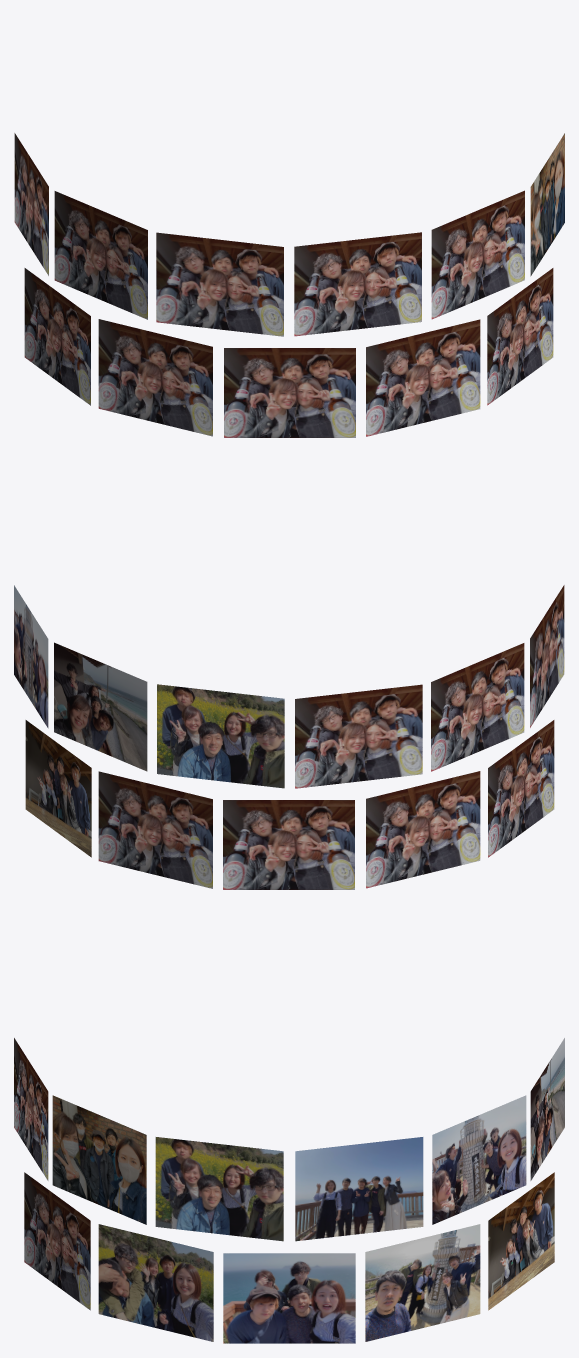
3 renders of one model, top to bottom at view 1: azimuth 30°, elevation 25°; view 2: azimuth 150°, elevation 25°; view 3: azimuth 270°, elevation 25°, orthographic.
Parts seen in each view (by area): view 1: 平面15, 平面14, 平面16, 平面13, 平面17, 平面12, 平面18, 平面19, 平面11, 平面10, 平面20; view 2: 平面23, 平面24, 平面22, 平面01, 平面21, 平面02, 平面20, 平面19, 平面03, 平面04, 平面18; view 3: 平面07, 平面08, 平面06, 平面09, 平面05, 平面04, 平面10, 平面11, 平面03, 平面02, 平面12.
Boxes of the visible parts, left/top/right/bottom form: 平面15: left=224, top=348, right=355, bottom=437; 平面14: left=294, top=232, right=421, bottom=336; 平面16: left=156, top=232, right=283, bottom=336; 平面13: left=366, top=319, right=480, bottom=436; 平面17: left=98, top=319, right=212, bottom=436; 平面12: left=431, top=190, right=524, bottom=319; 平面18: left=54, top=191, right=147, bottom=319; 平面19: left=24, top=268, right=90, bottom=405; 平面11: left=487, top=268, right=553, bottom=405; 平面10: left=530, top=133, right=564, bottom=276; 平面20: left=14, top=133, right=48, bottom=275; 平面23: left=223, top=800, right=354, bottom=889; 平面24: left=157, top=684, right=284, bottom=788; 平面22: left=295, top=684, right=422, bottom=788; 平面01: left=98, top=771, right=212, bottom=888; 平面21: left=366, top=771, right=480, bottom=888; 平面02: left=54, top=642, right=147, bottom=771; 平面20: left=431, top=643, right=524, bottom=771; 平面19: left=488, top=720, right=554, bottom=857; 平面03: left=25, top=720, right=91, bottom=857; 平面04: left=14, top=585, right=48, bottom=728; 平面18: left=530, top=585, right=564, bottom=727; 平面07: left=223, top=1253, right=355, bottom=1343; 平面08: left=155, top=1137, right=283, bottom=1241; 平面06: left=295, top=1137, right=423, bottom=1241; 平面09: left=98, top=1224, right=213, bottom=1341; 平面05: left=365, top=1224, right=480, bottom=1341; 平面04: left=432, top=1095, right=526, bottom=1224; 平面10: left=52, top=1095, right=146, bottom=1224; 平面11: left=24, top=1172, right=90, bottom=1310; 平面03: left=488, top=1172, right=554, bottom=1310; 平面02: left=530, top=1038, right=564, bottom=1180; 平面12: left=14, top=1038, right=48, bottom=1180.
Bounding box in the file's own units: 16.63 × 6.5 × 16.63.
Materials: 24 (24 with a texture image).
